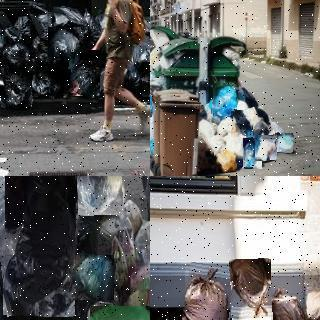Garbage: (4, 176, 76, 316), (182, 263, 235, 320), (230, 258, 272, 320), (0, 252, 35, 320), (73, 254, 116, 301), (77, 176, 123, 215), (69, 49, 103, 97), (47, 26, 83, 69), (26, 63, 63, 98), (0, 72, 33, 108), (1, 40, 33, 72), (212, 82, 238, 117), (300, 287, 320, 320), (243, 136, 262, 169), (232, 110, 254, 138), (215, 147, 238, 173), (255, 135, 277, 161), (275, 133, 294, 153), (141, 61, 150, 96), (0, 54, 7, 94)
